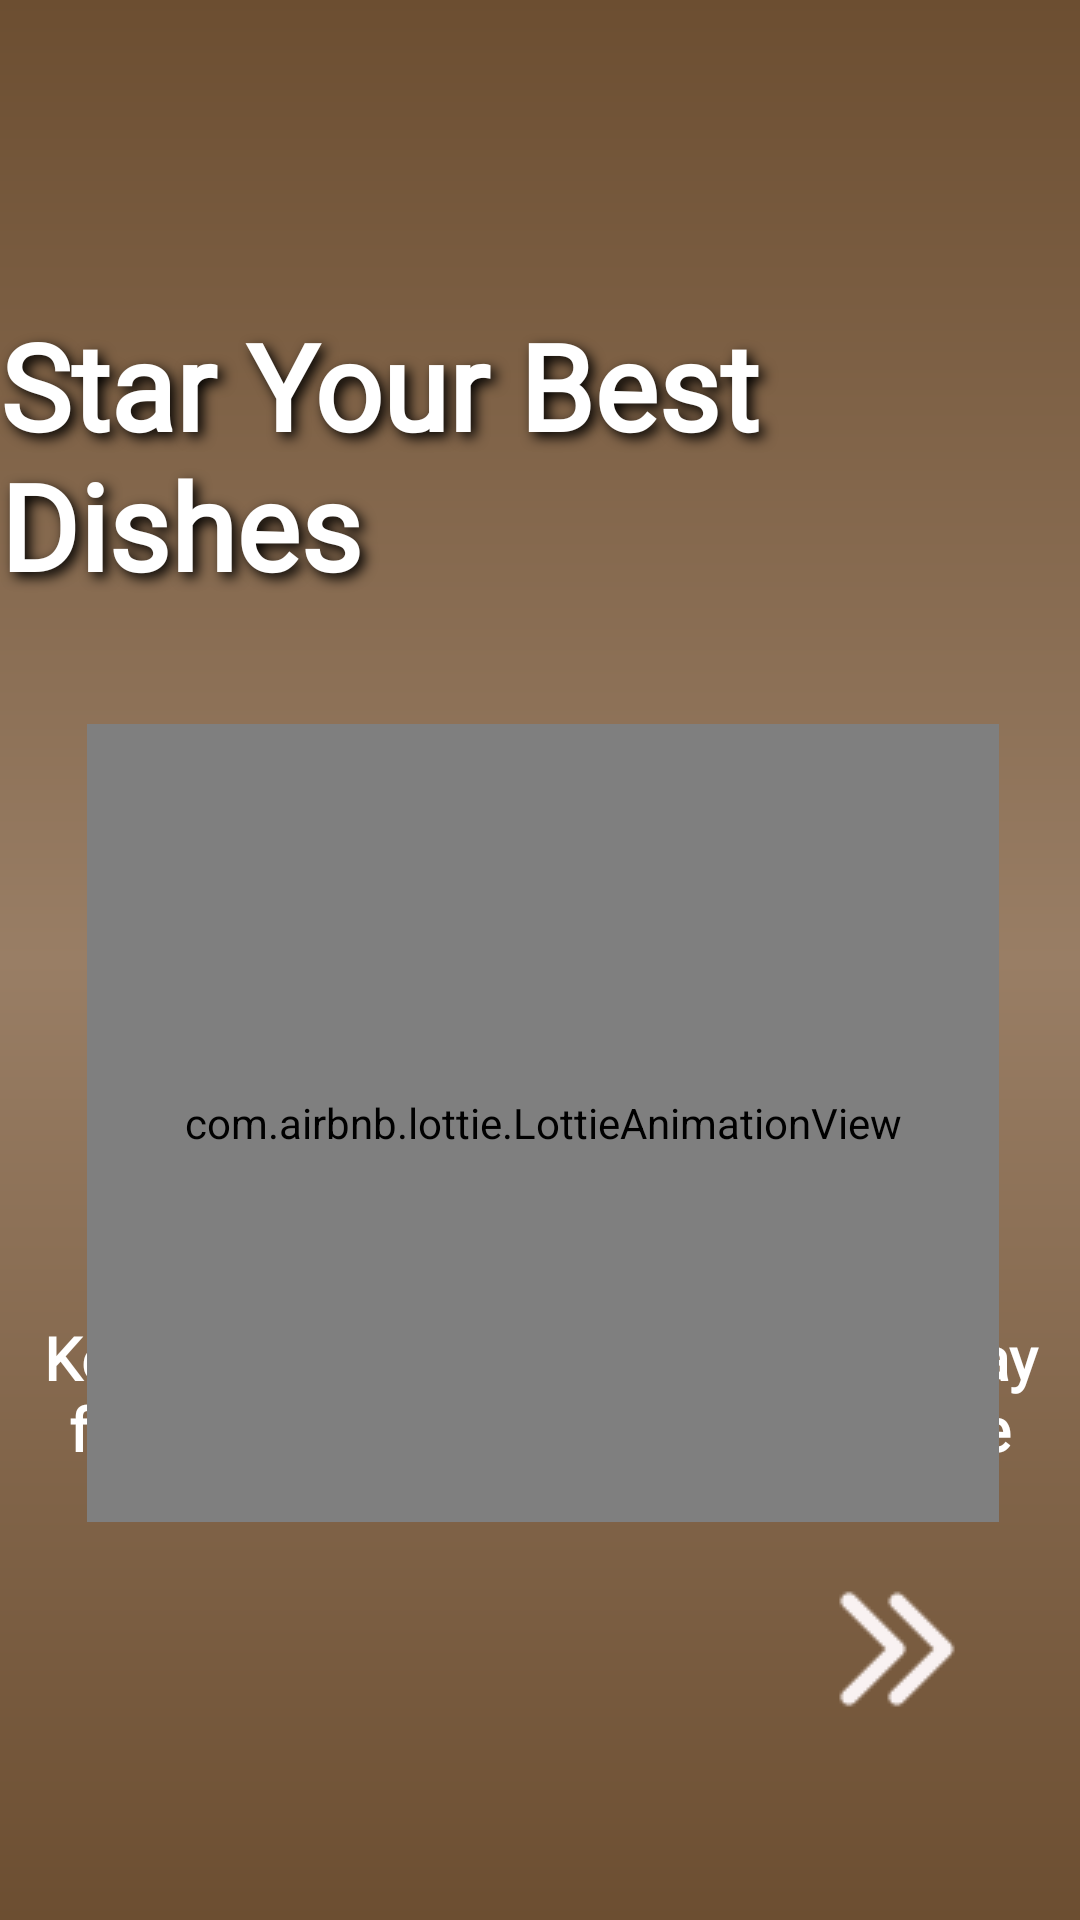

Icon bounding boxes for this 1080w x 1920h phone screenshot, format [x1,y1,x2,y2]:
next page: [839,1591,955,1707]
